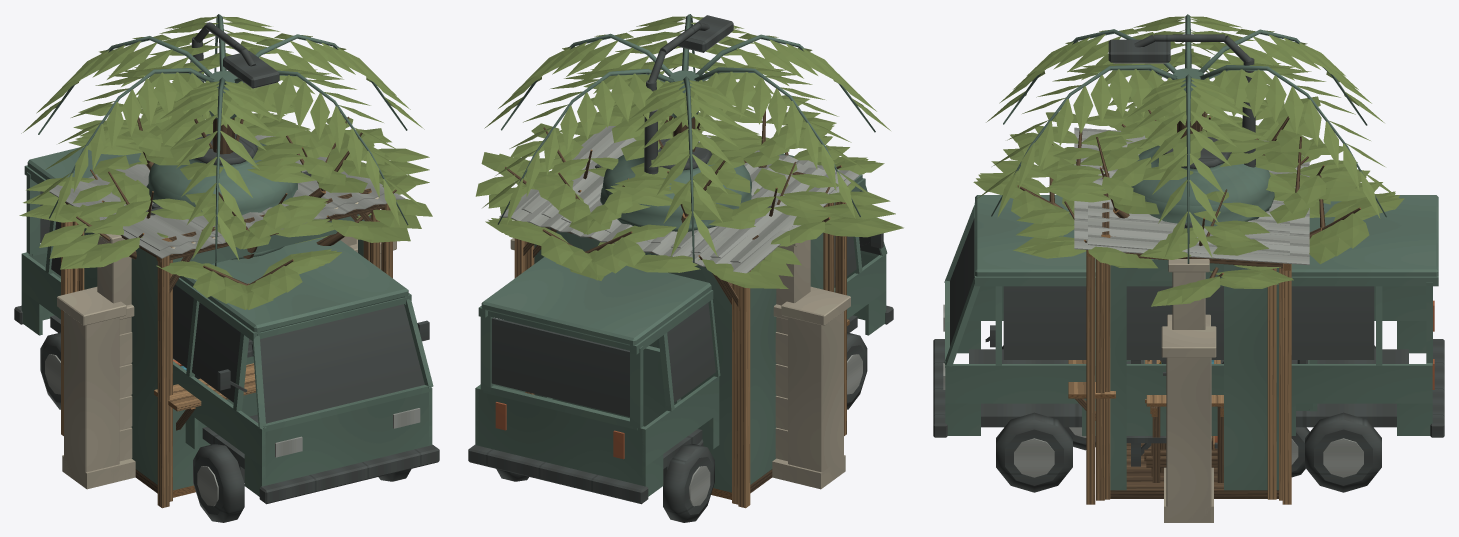
3 views of the same model, side by side, from view 1: azimuth 30°, elevation 25°; view 2: azimuth 150°, elevation 25°; view 3: azimuth 270°, elevation 25° (orthographic).
Parts seen in each view (by area): view 1: minibus, palm, broadleaf-tree, acacia, kiosk, wall, canopy, water-tank, market-stall, gate, street-lamp; view 2: minibus, palm, broadleaf-tree, kiosk, acacia, wall, market-stall, canopy, water-tank, street-lamp, gate, three-wheeler; view 3: minibus, palm, kiosk, broadleaf-tree, acacia, market-stall, wall, water-tank, canopy, street-lamp, gate, three-wheeler.
Part boxes in pixels (x1,y1,x2,y2): minibus: (14, 147, 439, 522); palm: (21, 14, 424, 266); broadleaf-tree: (68, 81, 391, 258); acacia: (19, 108, 432, 309); kiosk: (49, 135, 405, 501); wall: (57, 239, 396, 489); canopy: (61, 197, 392, 508); water-tank: (146, 134, 297, 379); market-stall: (70, 156, 384, 370); gate: (93, 233, 356, 482); street-lamp: (190, 22, 279, 115); minibus: (468, 153, 893, 522); palm: (482, 14, 890, 262); broadleaf-tree: (510, 71, 842, 234); kiosk: (499, 131, 859, 504); acacia: (475, 109, 903, 288); wall: (510, 238, 850, 489); market-stall: (521, 126, 846, 290); canopy: (514, 186, 847, 508); water-tank: (600, 138, 751, 231); street-lamp: (644, 15, 733, 174); gate: (772, 240, 810, 482); three-wheeler: (558, 335, 703, 445); minibus: (933, 195, 1444, 492); palm: (976, 14, 1400, 263); kiosk: (1068, 127, 1309, 500); broadleaf-tree: (1010, 85, 1367, 259); acacia: (973, 107, 1404, 306); market-stall: (1088, 128, 1289, 499); wall: (1161, 314, 1216, 522); water-tank: (1131, 137, 1274, 466); canopy: (1086, 250, 1291, 504); street-lamp: (1108, 34, 1255, 167); gate: (1168, 259, 1209, 329); three-wheeler: (1064, 360, 1318, 477).
Size of the model in its own units: 3.93 by 3.83 by 4.3.
Materials: 1 (1 with a texture image).
